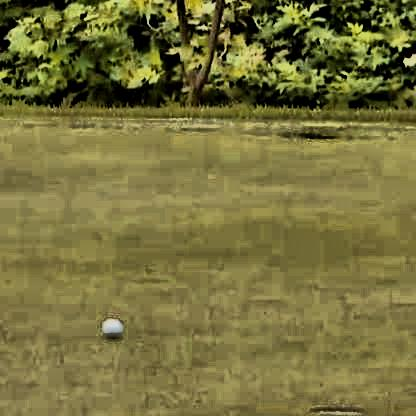golfball: (97, 313, 120, 336)
